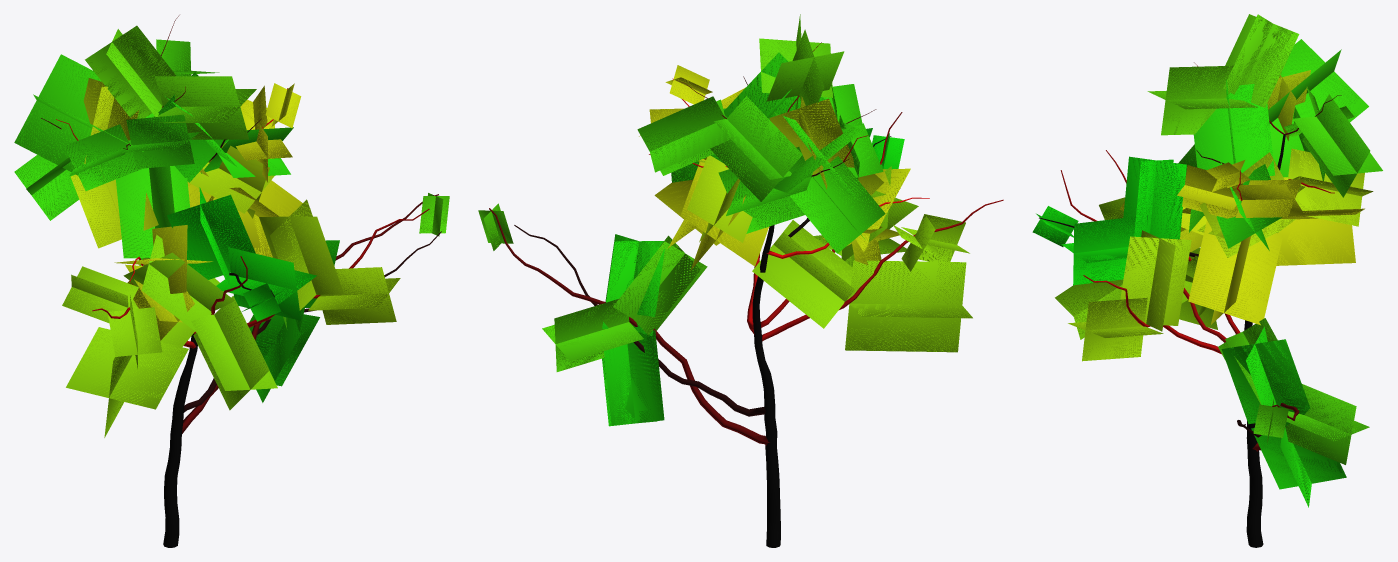
The model's file is Type_1_Tree_7.fbx.
3 views of the same model, side by side, from view 1: azimuth 30°, elevation 25°; view 2: azimuth 150°, elevation 25°; view 3: azimuth 270°, elevation 25° (orthographic). The views are drawn at different scales.
Visible parts, largest first — view 1: Leaf, Trunk; view 2: Leaf, Trunk; view 3: Leaf, Trunk.
Boxes of the visible parts, x1,y1,x2,y2 form: Leaf: (14, 25, 449, 437); Trunk: (41, 15, 441, 547); Leaf: (478, 14, 972, 426); Trunk: (489, 42, 1003, 547); Leaf: (1032, 14, 1382, 507); Trunk: (1039, 62, 1341, 547).
Size of the model in its own units: 3322 by 3777 by 2333.
